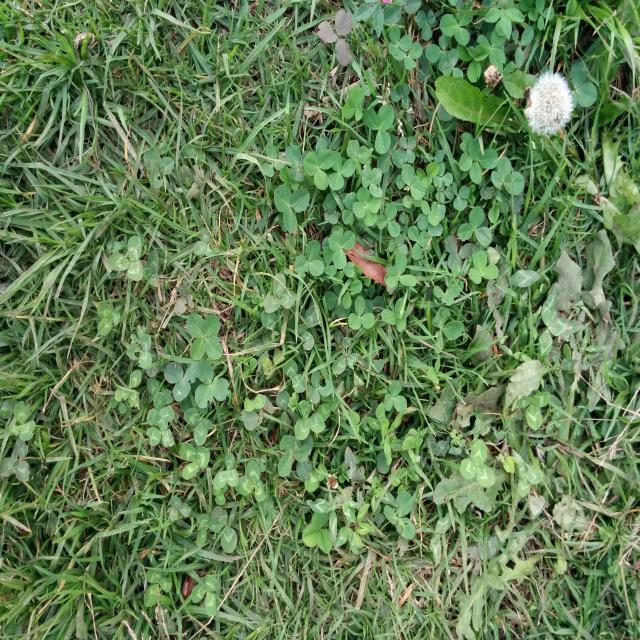Four Leaf Clover: (186, 313, 222, 360), (353, 187, 381, 226)
